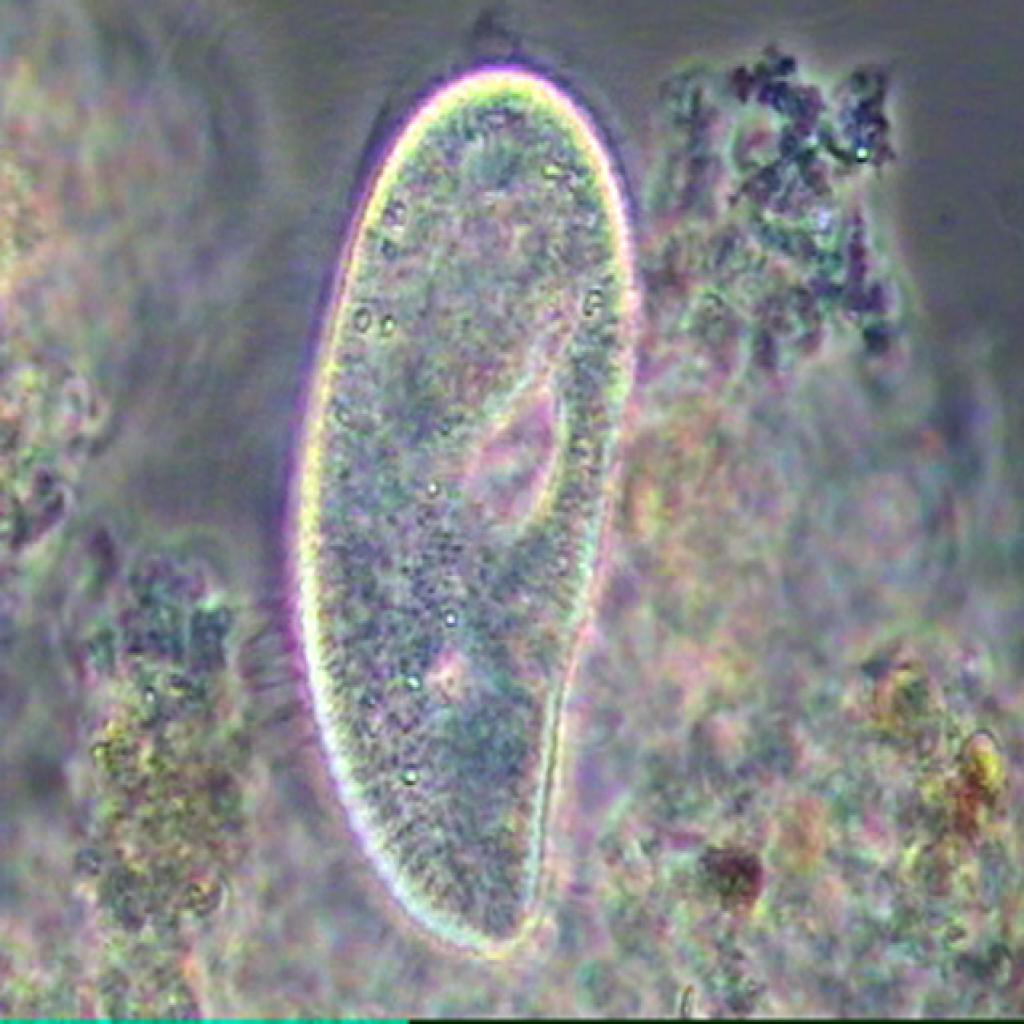Paramecium: (275, 22, 664, 987)
